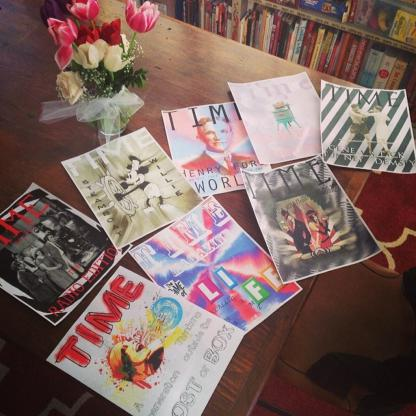book: (136, 0, 416, 93)
